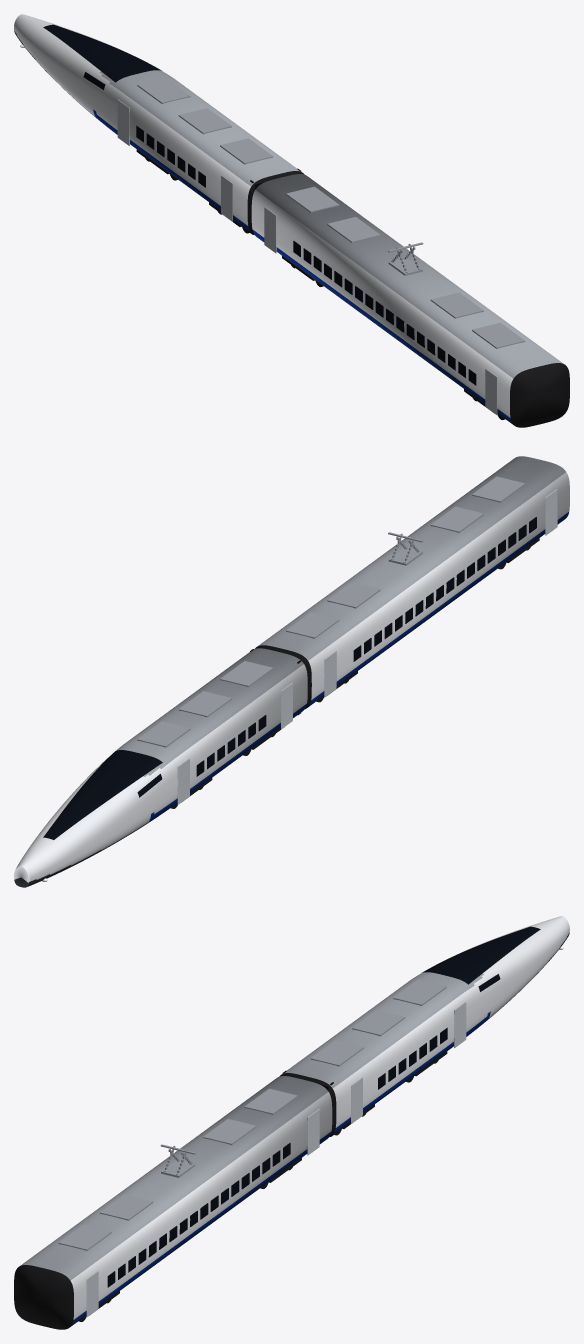
Rendered from shinkansen_consist.obj.
3 views of the same model, one above another, from view 1: azimuth 30°, elevation 25°; view 2: azimuth 150°, elevation 25°; view 3: azimuth 330°, elevation 25° (orthographic).
Visible parts, largest first — view 1: MidCar_Body, HeadCar_Body, MidCar_RoofGear, HeadCar_Windshield, MidCar_Windows, MidCar_Doors, HeadCar_Doors, HeadCar_Windows; view 2: MidCar_Body, HeadCar_Body, MidCar_RoofGear, HeadCar_Windshield, MidCar_Windows, MidCar_Doors, HeadCar_Doors, HeadCar_Windows; view 3: MidCar_Body, HeadCar_Body, MidCar_RoofGear, HeadCar_Windshield, MidCar_Windows, MidCar_Doors, HeadCar_Doors, HeadCar_Windows.
Part boxes in pixels (<box>): MidCar_Body: <box>251,174,569,427</box>; HeadCar_Body: <box>14,14,304,234</box>; MidCar_RoofGear: <box>137,78,525,348</box>; HeadCar_Windshield: <box>43,24,161,82</box>; MidCar_Windows: <box>293,240,476,385</box>; MidCar_Doors: <box>264,206,497,414</box>; HeadCar_Doors: <box>117,99,232,221</box>; HeadCar_Windows: <box>136,125,205,187</box>; MidCar_Body: <box>255,456,569,708</box>; HeadCar_Body: <box>14,648,307,887</box>; MidCar_RoofGear: <box>137,476,525,747</box>; HeadCar_Windshield: <box>43,750,162,839</box>; MidCar_Windows: <box>353,517,536,661</box>; MidCar_Doors: <box>324,489,557,697</box>; HeadCar_Doors: <box>177,682,292,804</box>; HeadCar_Windows: <box>196,715,266,776</box>; MidCar_Body: <box>14,1076,332,1329</box>; HeadCar_Body: <box>279,916,569,1136</box>; MidCar_RoofGear: <box>58,980,446,1250</box>; HeadCar_Windshield: <box>422,926,540,984</box>; MidCar_Windows: <box>107,1142,290,1287</box>; MidCar_Doors: <box>86,1108,319,1316</box>; HeadCar_Doors: <box>351,1001,466,1123</box>; HeadCar_Windows: <box>378,1027,447,1089</box>.
Bounding box in the file's own units: 3.42 × 4.78 × 50.21.
